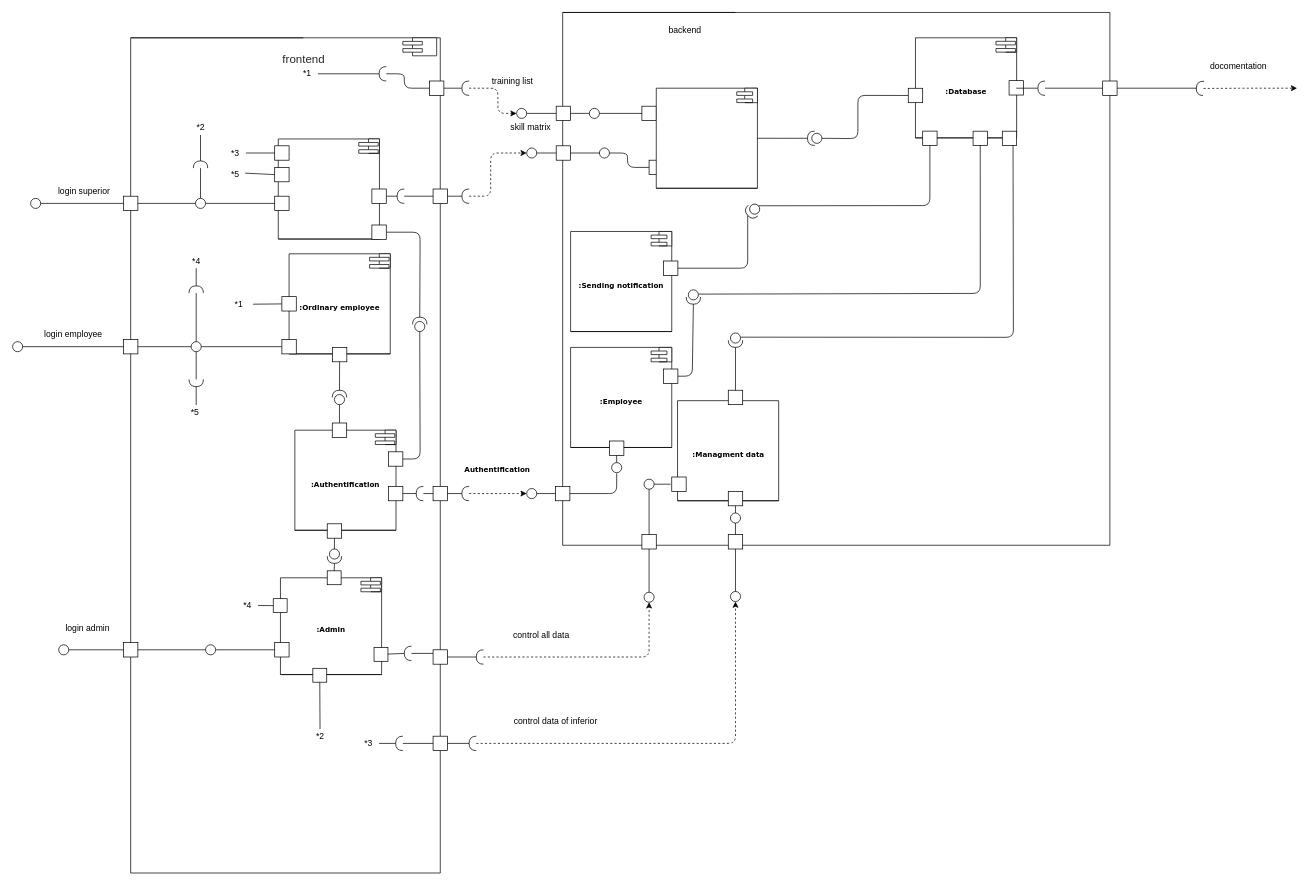
This 1315x886 diagram has some shape labels left out. Here are the shapes that lost their labels. From the top down, the box of each, then its label:
(656, 87, 757, 188): :Views
(278, 138, 379, 239): :Superior
